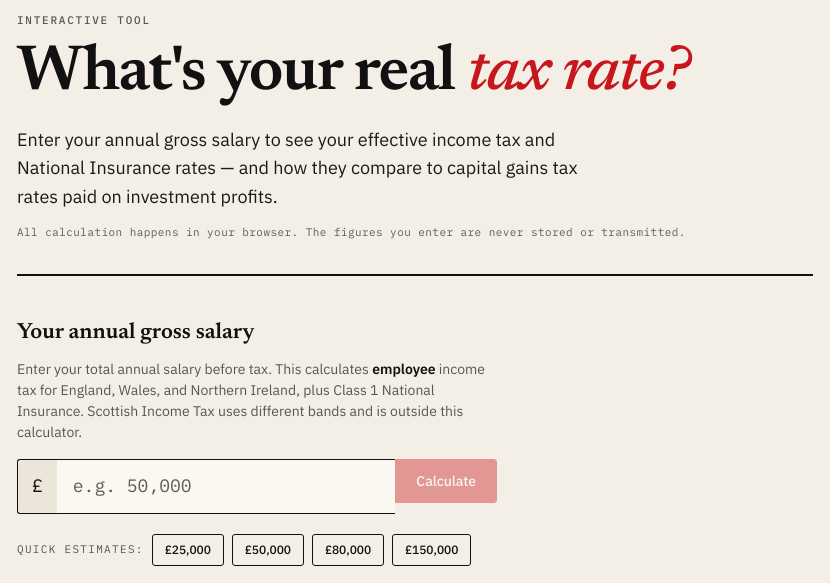
TaxCalculator › applies preset value when preset button is clicked
Step 1. Click the button with class "wl-btn--ghost" showing "£25,000" → [188, 550], box [152, 534, 224, 566]
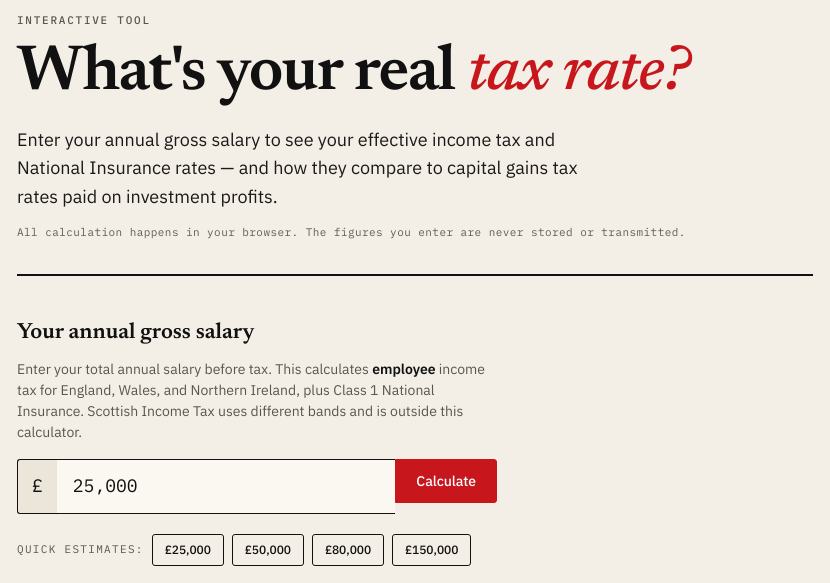
Check: the field with id "salary-input" holds "25,000", box [57, 459, 395, 514]
